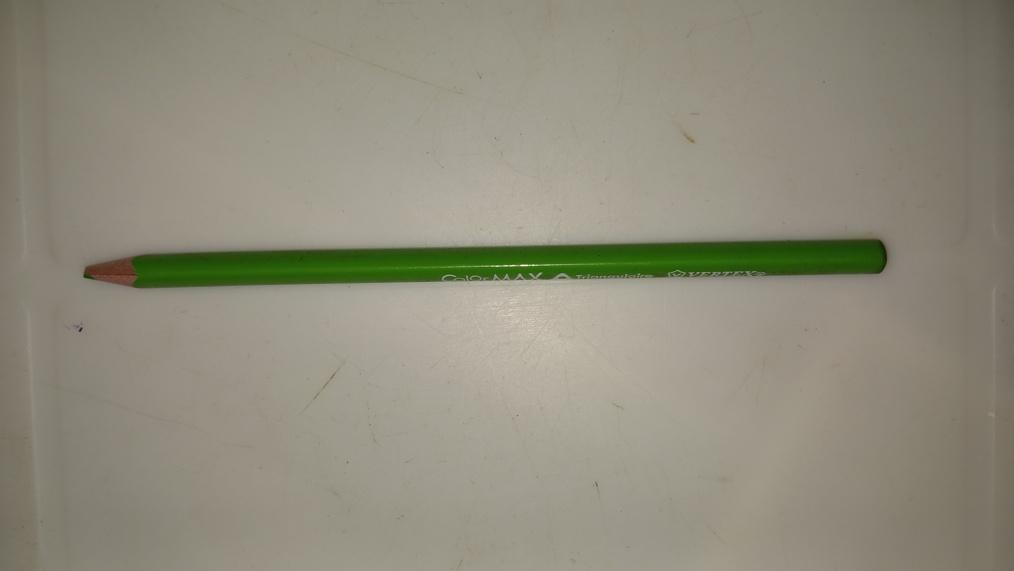Pencil: (79, 240, 895, 291)
